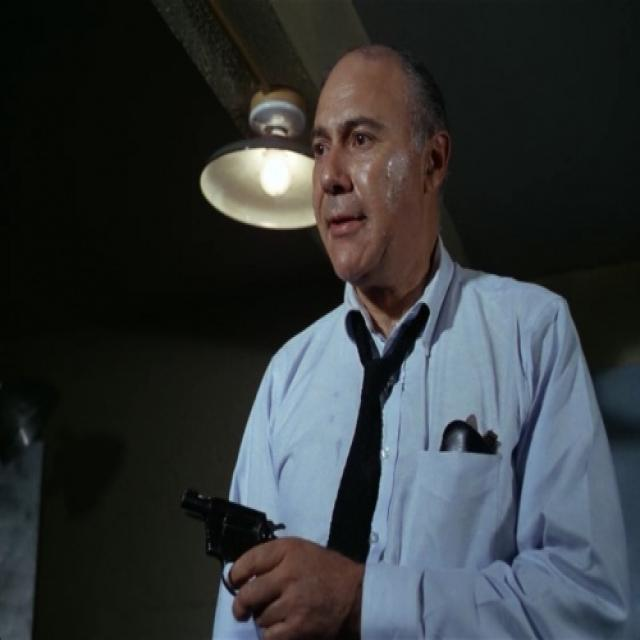weapons: (168, 463, 312, 638)
